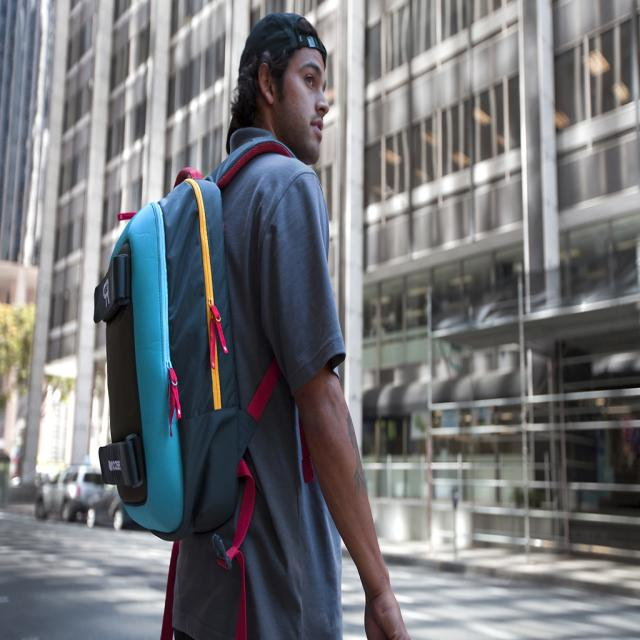backpack: (90, 136, 312, 555)
